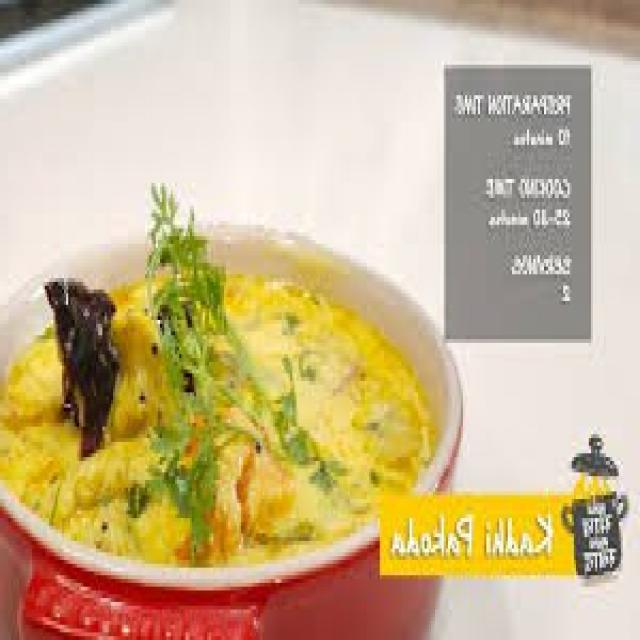Kadhi Pakora: (0, 263, 435, 562)
